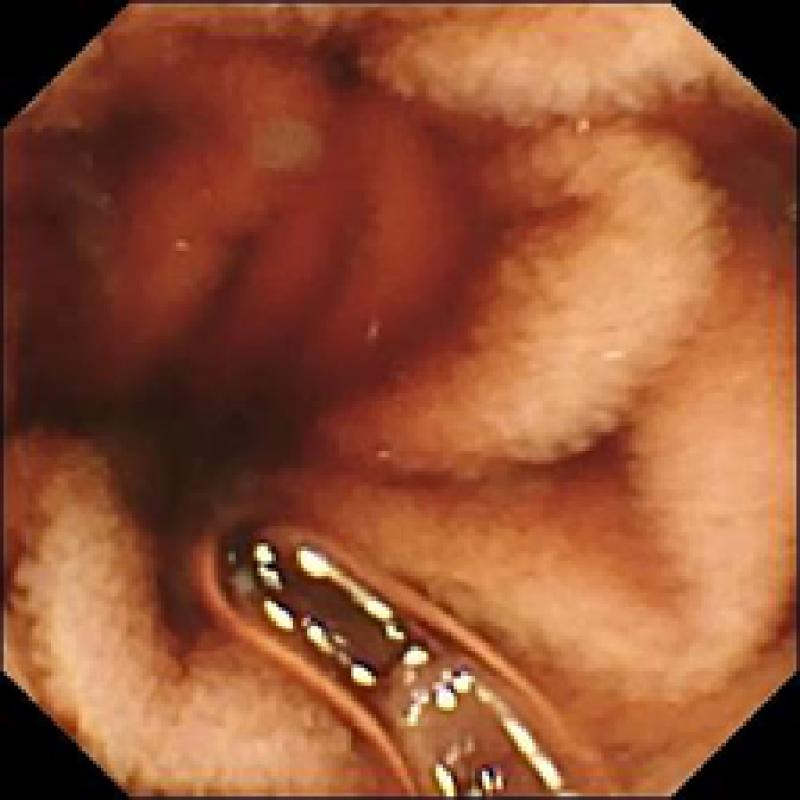bleeding: (0, 21, 482, 628), (642, 94, 792, 258)
